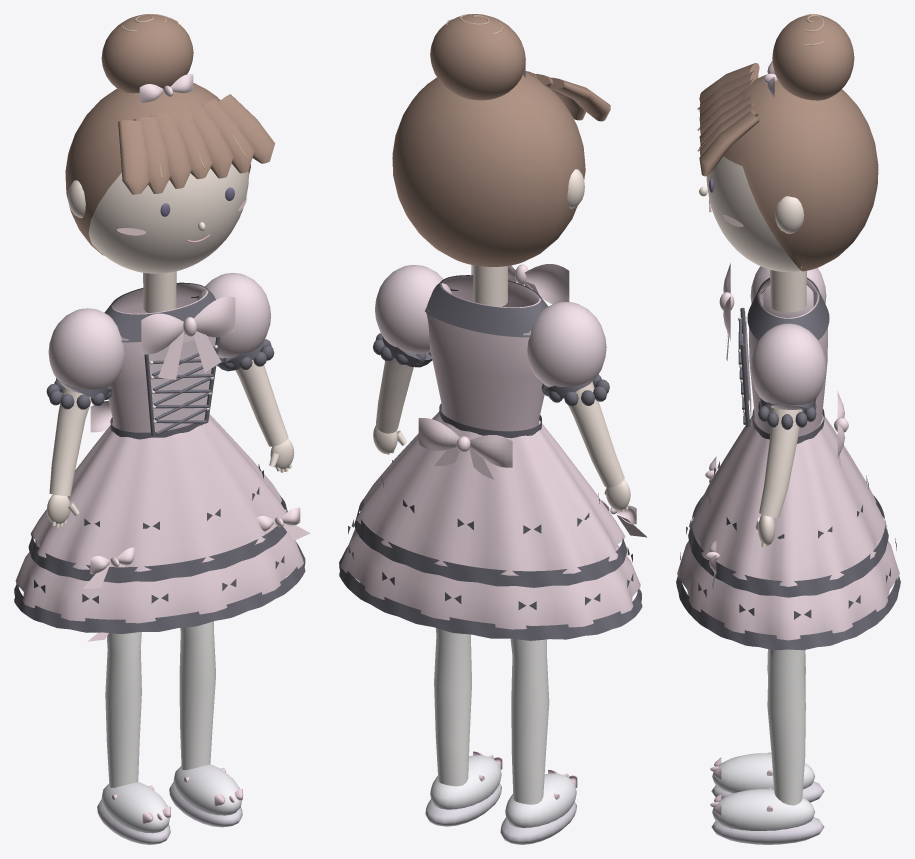
File: 03_pink_black_tyairobun.glb
3 renders of one model, left to right at view 1: azimuth 30°, elevation 25°; view 2: azimuth 150°, elevation 25°; view 3: azimuth 270°, elevation 25°, orthographic. The views are drawn at different scales.
Parts seen in each view (by area): view 1: Pink and black dress / BUN; view 2: Pink and black dress / BUN; view 3: Pink and black dress / BUN.
Part boxes in pixels (x1,y1,x2,y2): Pink and black dress / BUN: (14, 14, 310, 844); Pink and black dress / BUN: (339, 14, 647, 844); Pink and black dress / BUN: (676, 14, 900, 844).
Bounding box in the file's own units: 0.4939 × 1.37 × 0.3483.
